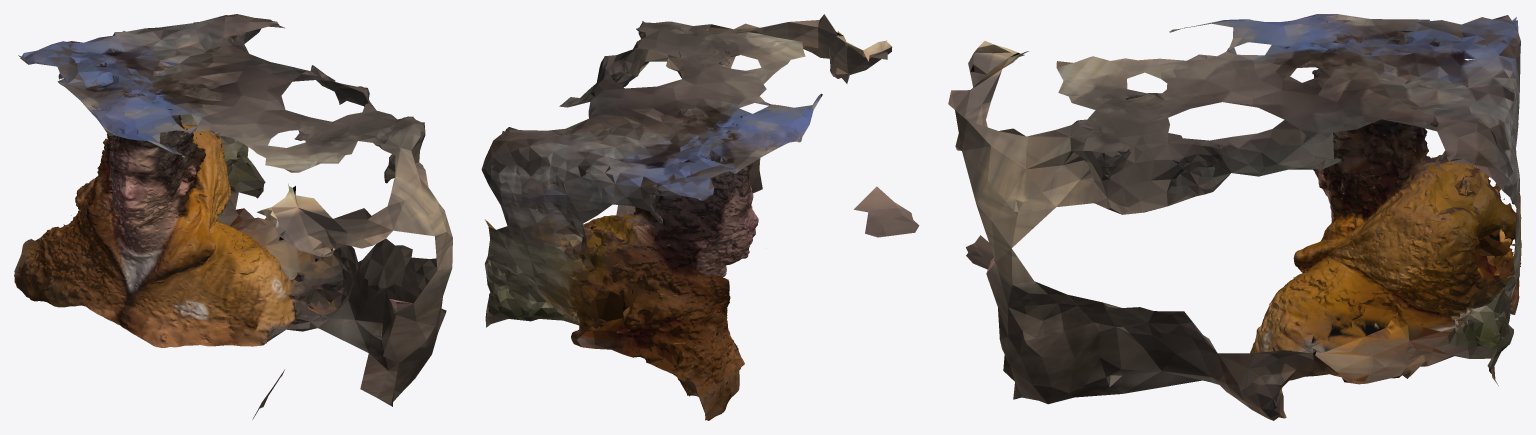
Rendered from Pablo_Photogrammetry.fbx.
The picture shows the model from 3 angles, left to right: view 1: azimuth 30°, elevation 25°; view 2: azimuth 150°, elevation 25°; view 3: azimuth 270°, elevation 25°; orthographic projection. The views are drawn at different scales.
Visible parts, largest first — view 1: texturedMesh; view 2: texturedMesh; view 3: texturedMesh.
Boxes of the visible parts, box(x1,y1,x2,y2) form: texturedMesh: box(14, 14, 452, 419); texturedMesh: box(481, 14, 919, 420); texturedMesh: box(948, 14, 1521, 420).
Bounding box in the file's own units: 81.25 × 78.05 × 138.
Materials: 1 (1 with a texture image).
